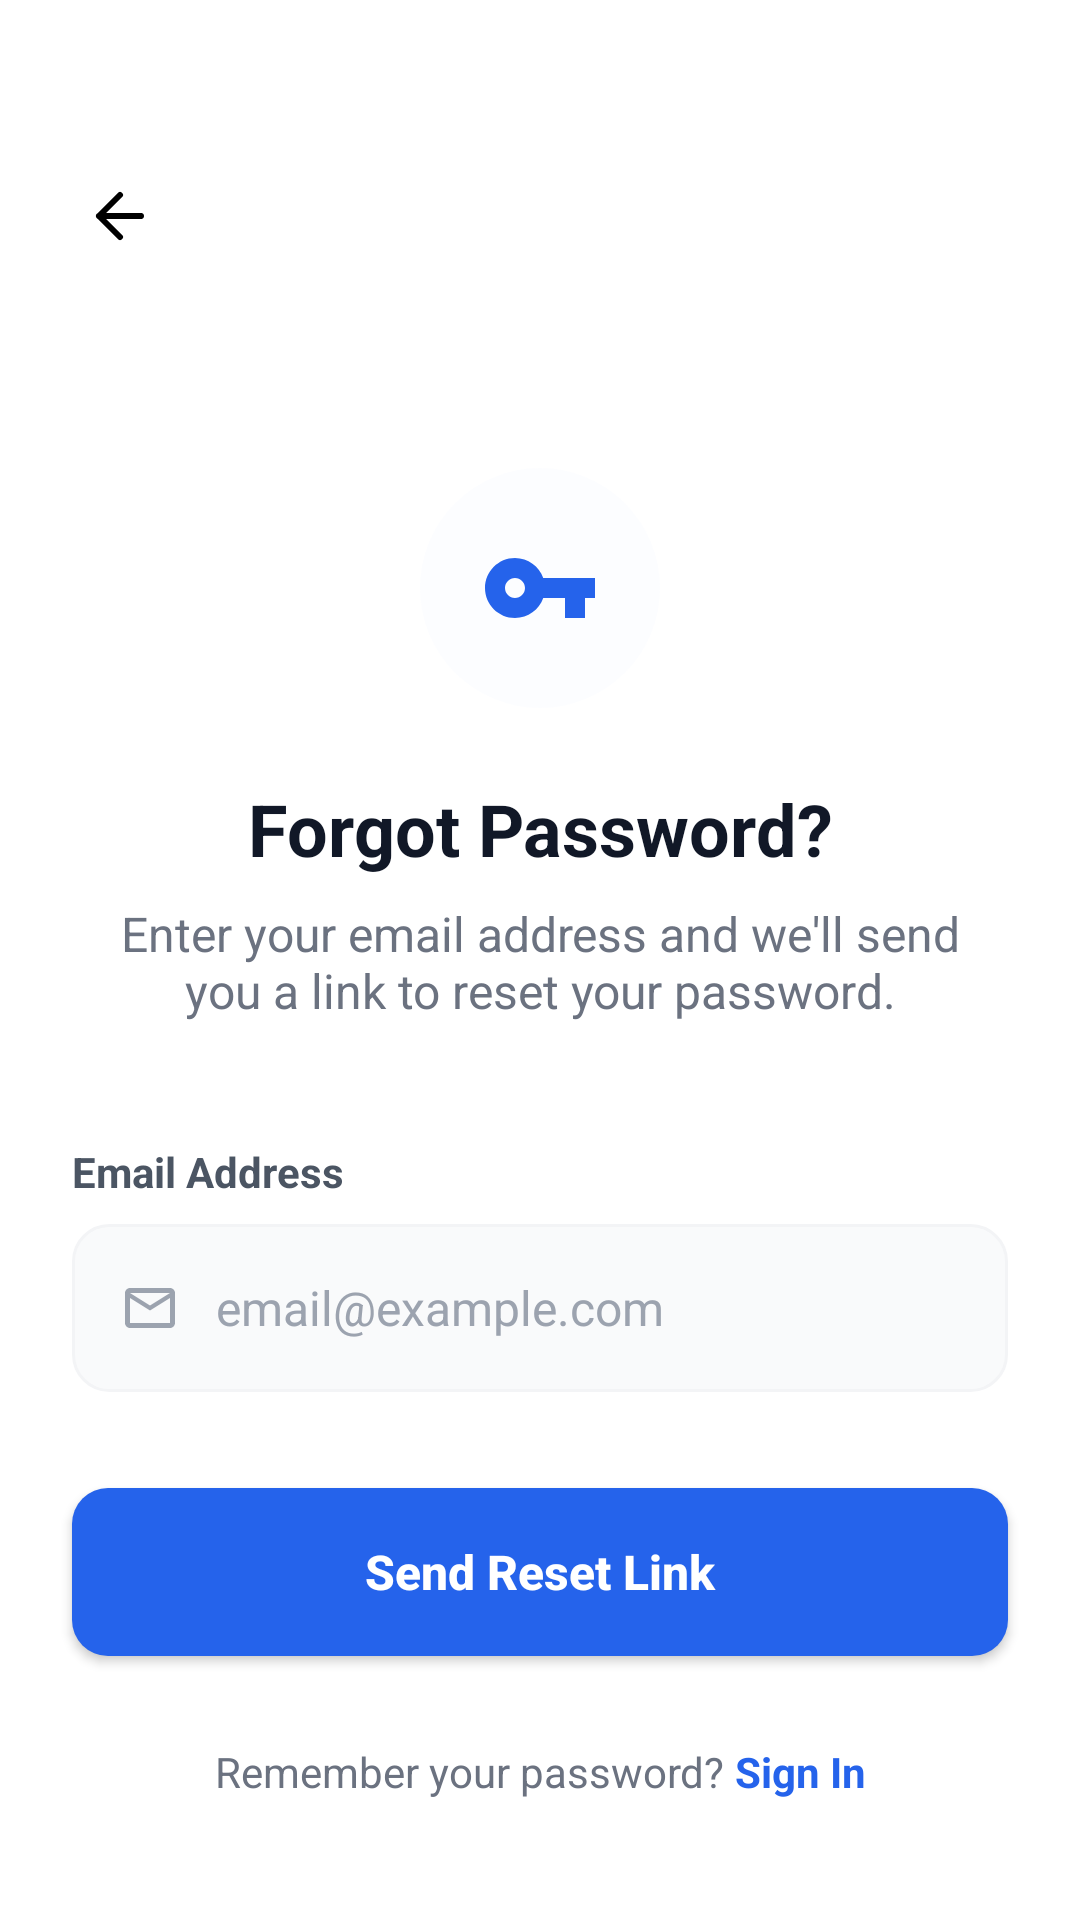

Icon bounding boxes for this 1080*1920 phone screenshot, format (x1, y1, x2, y2):
back: (96, 192, 144, 240)
key: (485, 558, 595, 618)
